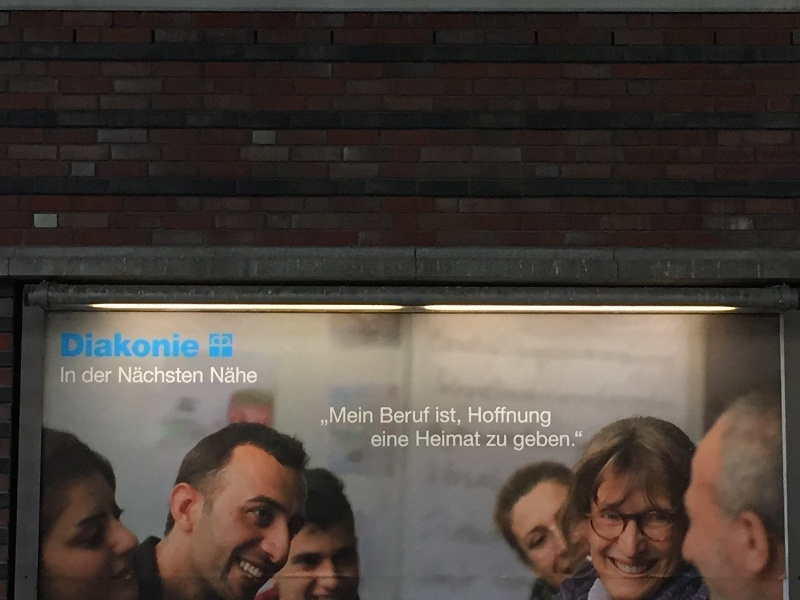text: (65, 333, 80, 357), (81, 333, 96, 357), (97, 333, 112, 357), (113, 333, 128, 357), (129, 333, 144, 357), (145, 333, 160, 357), (161, 333, 176, 357), (177, 333, 192, 357), (513, 431, 528, 452), (529, 431, 544, 452), (545, 431, 560, 452), (561, 431, 576, 452), (321, 406, 336, 426), (337, 406, 352, 426), (353, 406, 368, 426), (481, 407, 496, 427), (497, 407, 512, 427), (513, 407, 528, 427), (529, 407, 544, 427), (97, 367, 113, 383), (129, 367, 144, 384), (145, 367, 160, 384), (161, 367, 176, 384), (177, 367, 192, 384), (385, 407, 400, 424), (401, 407, 416, 424), (385, 431, 400, 448), (417, 430, 432, 447), (433, 430, 448, 447), (449, 430, 464, 447), (465, 430, 480, 447), (225, 367, 240, 383), (241, 367, 256, 383), (436, 406, 448, 426), (449, 406, 461, 426), (417, 407, 430, 424), (469, 407, 480, 427), (83, 367, 96, 383), (372, 431, 384, 448), (212, 367, 224, 383), (65, 366, 76, 383), (193, 367, 203, 384), (119, 367, 128, 384), (193, 333, 199, 357), (401, 431, 409, 448), (577, 431, 583, 452), (545, 407, 551, 427), (497, 435, 507, 447), (487, 435, 496, 447), (369, 406, 374, 426), (380, 407, 384, 424), (61, 366, 64, 383), (62, 333, 64, 357), (257, 367, 258, 383)
